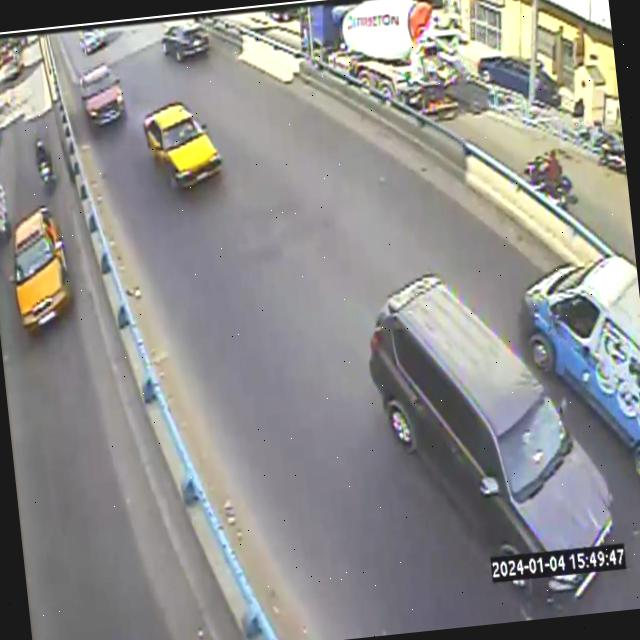car: (368, 273, 611, 555), (305, 0, 459, 116), (142, 102, 221, 186), (79, 65, 124, 125), (552, 295, 598, 337), (161, 21, 209, 61), (81, 30, 106, 54)
